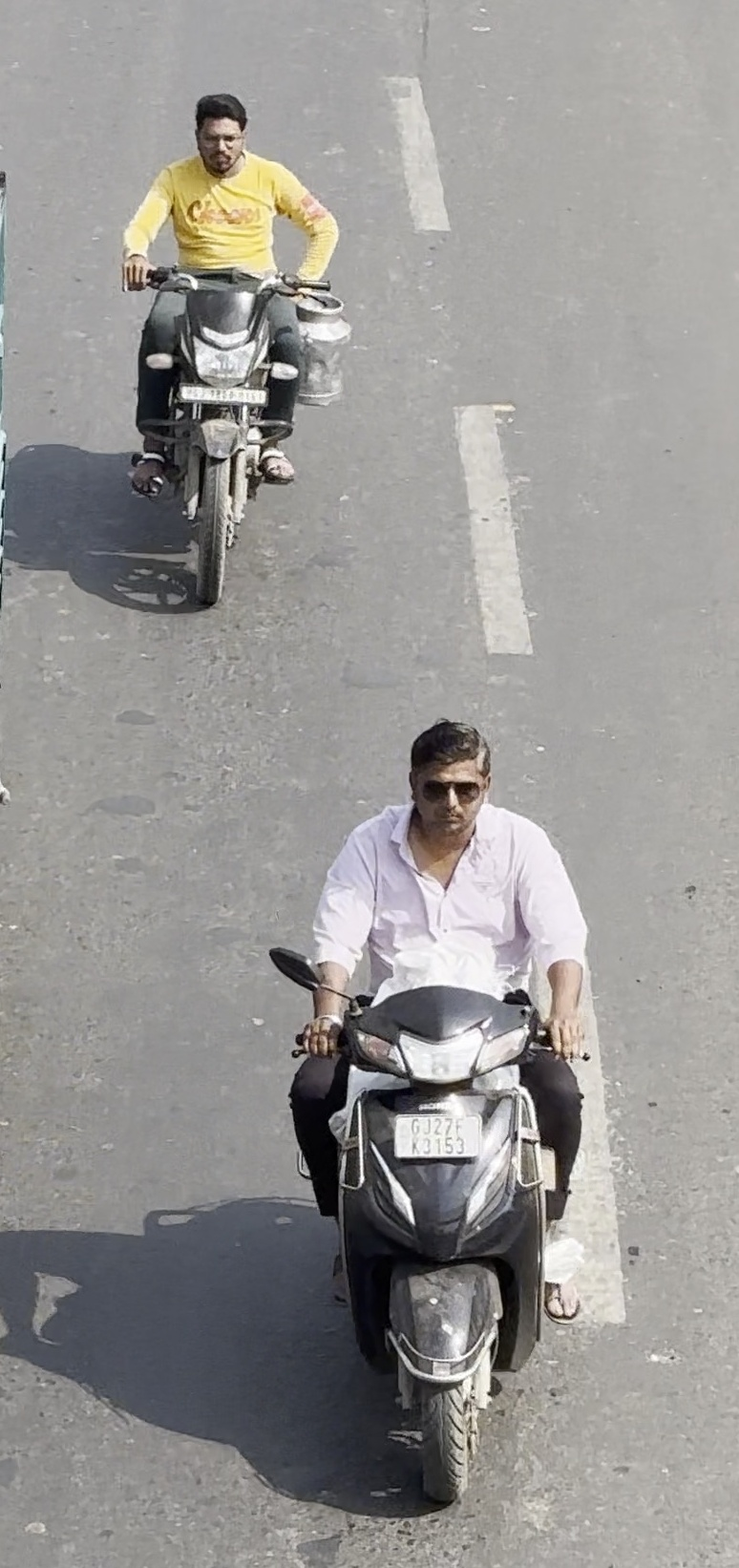BikeWithRider: (264, 709, 597, 1514), (114, 87, 350, 613)
NoHelmet: (395, 713, 506, 847), (186, 89, 257, 183)
